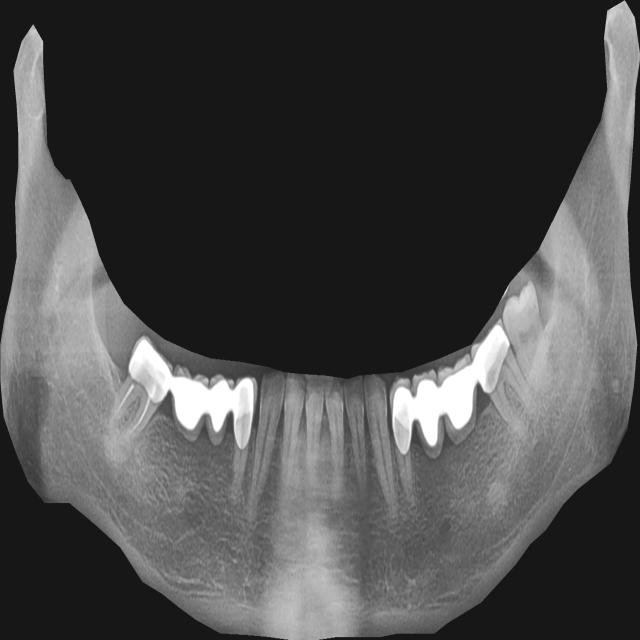mandibula: (0, 0, 640, 640)
